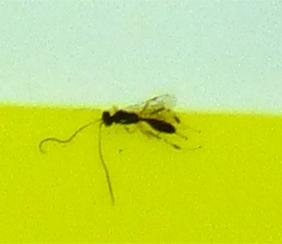Hymenoptera: (100, 100, 182, 144)
